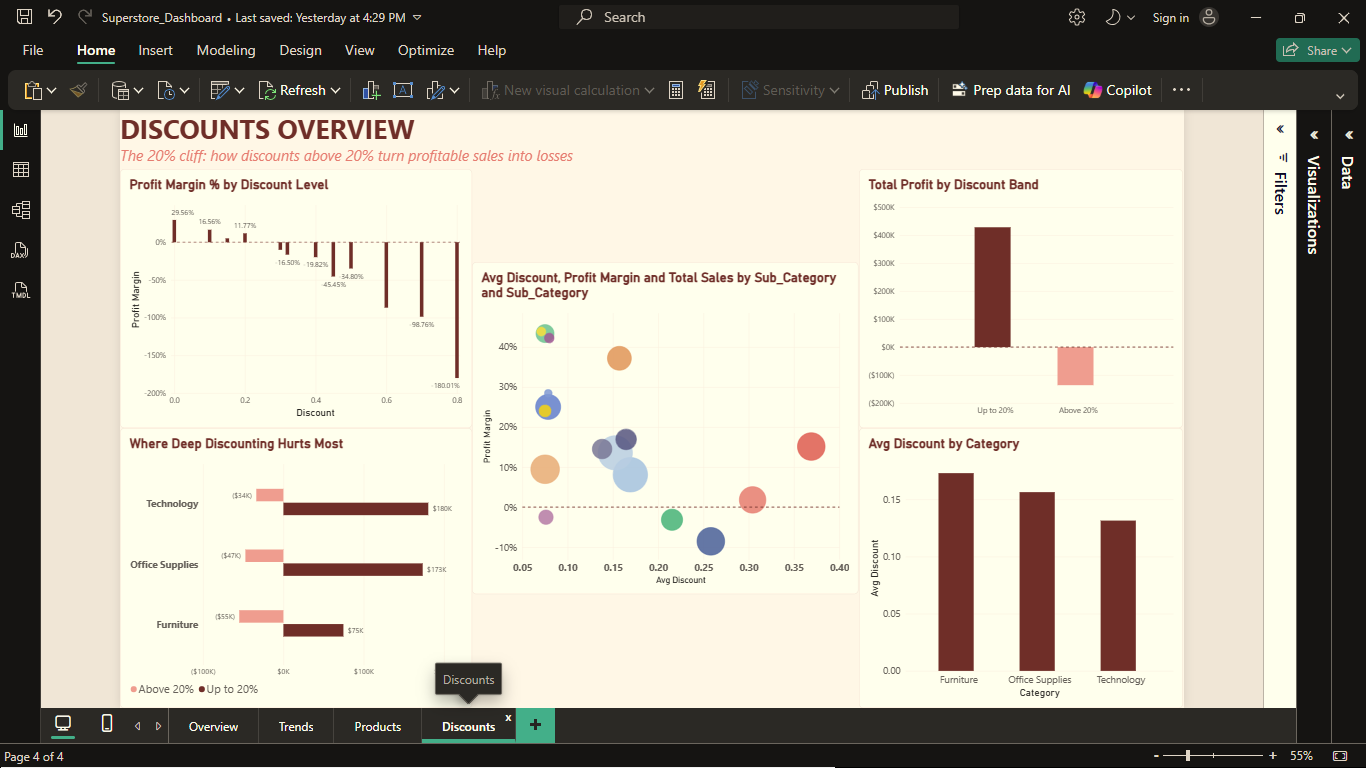

The page's visual inventory and layout, read from the dashboard file:
{"tool":"powerbi","page":{"name":"Discounts","canvas":[1920,1080],"ordinal":3},"visuals":[{"type":"clusteredColumnChart","title":"Profit Margin % by Discount Level","fields":{"Category":["superstore orders.Discount"],"Y":["superstore orders.Profit Margin"]},"box":[0,106.6,635.7,467.8],"z":0},{"type":"clusteredColumnChart","title":"Total Profit by Discount Band","fields":{"Category":["superstore orders.Discount Band"],"Y":["superstore orders.Total Profit"]},"box":[1334.6,106.6,585.2,467.8],"z":1000},{"type":"clusteredColumnChart","fields":{"Category":["superstore orders.Category"],"Y":["superstore orders.Avg Discount"]},"box":[1334.6,574.3,585.2,505.7],"z":2000},{"type":"textbox","box":[0,0,937.3,106.6],"z":3000},{"type":"clusteredBarChart","title":"Where Deep Discounting Hurts Most","fields":{"Category":["superstore orders.Category"],"Series":["superstore orders.Discount Band"],"Y":["superstore orders.Total Profit"]},"box":[0,574.3,635.7,505.7],"z":4000},{"type":"scatterChart","fields":{"Category":["superstore orders.Sub_Category"],"Series":["superstore orders.Sub_Category"],"Size":["superstore orders.Total Sales"],"X":["superstore orders.Avg Discount"],"Y":["superstore orders.Profit Margin"]},"box":[635.7,274.5,698.3,600],"z":4001}]}

Visuals, with their boxes on the page's 1920x1080 design canvas (x1, y1, x2, y2). These are canvas units, not pixel positions in the 1366x768 screenshot, which may show the page scaled, cropped or inside an application window:
"Profit Margin % by Discount Level" clusteredColumnChart: box=[0, 107, 636, 574]
"Total Profit by Discount Band" clusteredColumnChart: box=[1335, 107, 1920, 574]
clusteredColumnChart - superstore orders.Category x superstore orders.Avg Discount: box=[1335, 574, 1920, 1080]
textbox: box=[0, 0, 937, 107]
"Where Deep Discounting Hurts Most" clusteredBarChart: box=[0, 574, 636, 1080]
scatterChart - superstore orders.Sub_Category x superstore orders.Sub_Category: box=[636, 274, 1334, 874]
